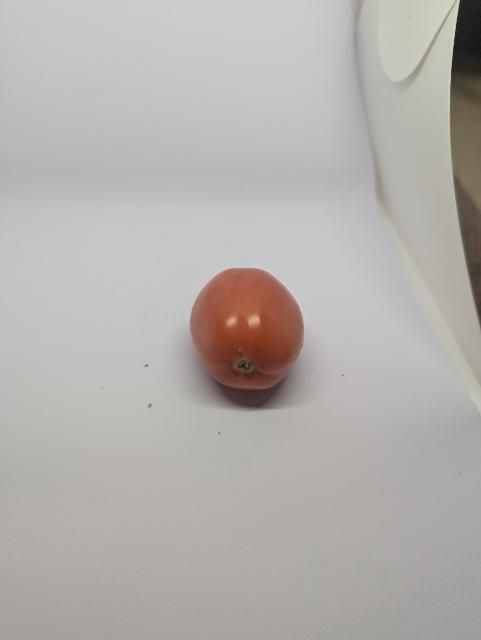red: (175, 244, 353, 420)
